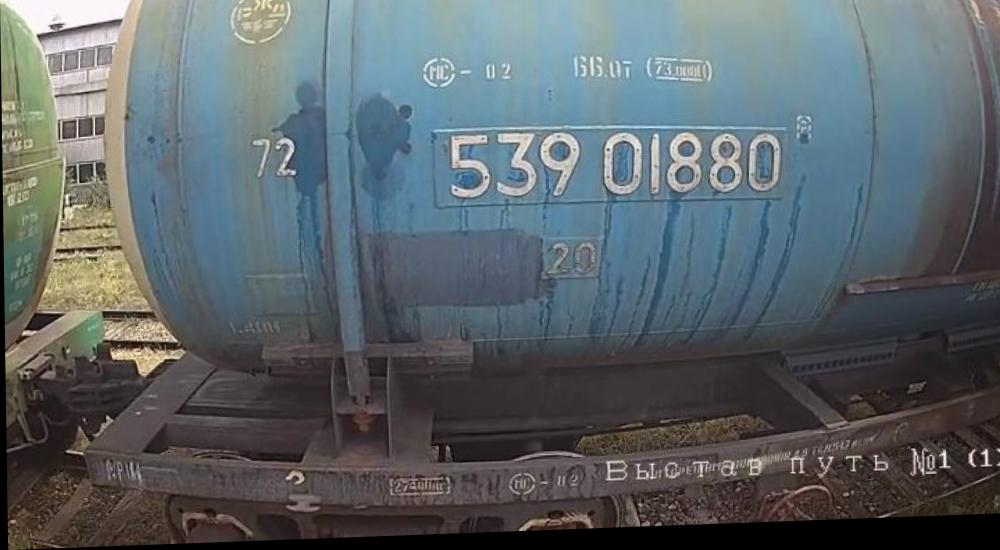Wagon-number: (441, 124, 785, 213)
